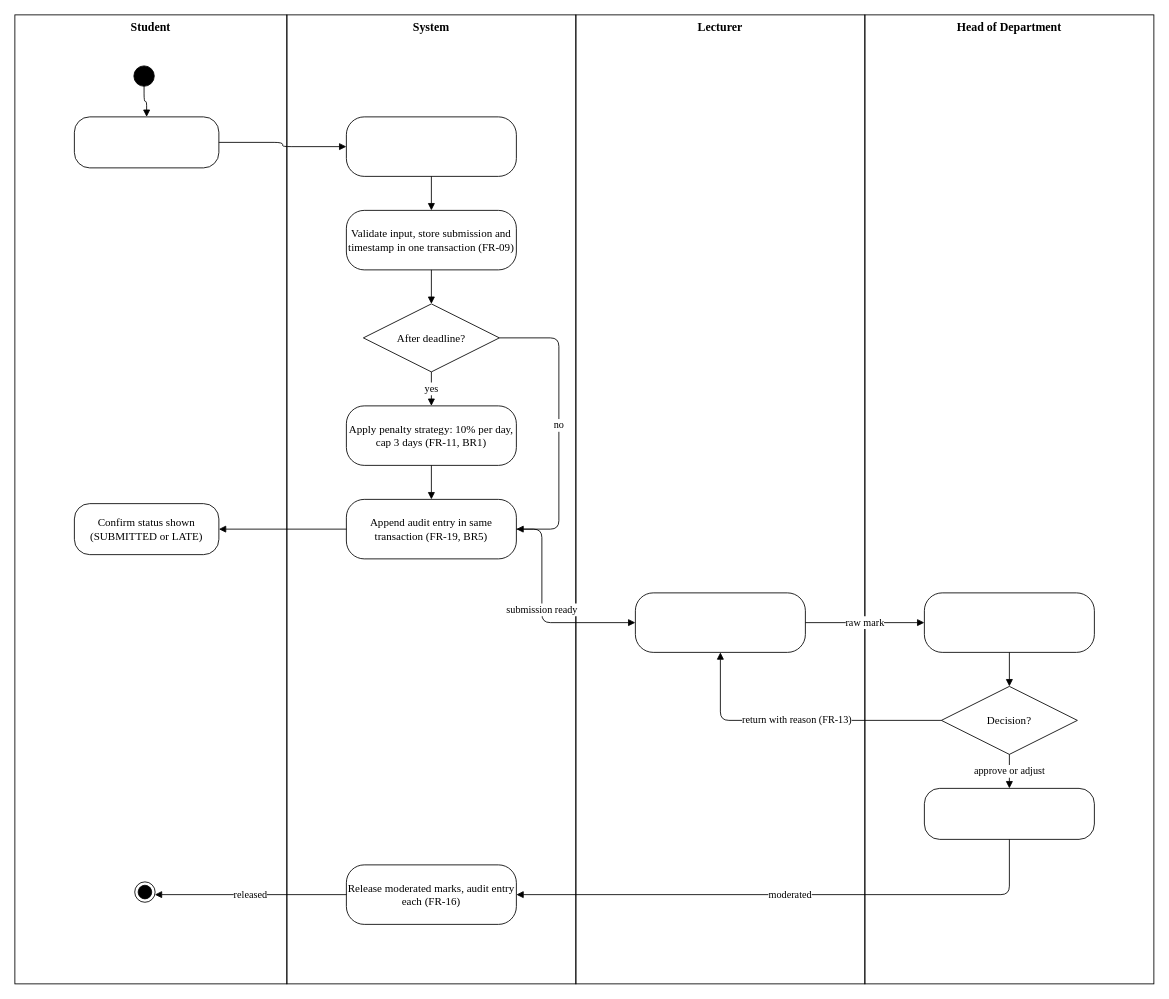
Some shapes in this 1169 by 999 pixel diagram are drawn without their labels. The centre of each missing label's shape, as x and y in pixels:
Check effective deadline (assignment or extension) and set status (BR2, BR4): (431,146)
List pending marks for department (FR-14): (1009,622)
Mark submission, enter raw mark and feedback (FR-12): (720,622)
Pick course and assignment (FR-18): (146,142)
Record moderated mark with reason (FR-15): (1009,813)
